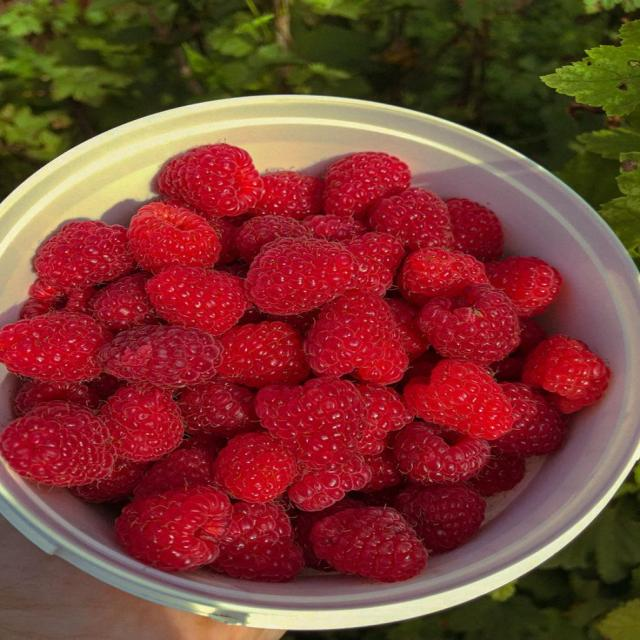raspberry: (256, 377, 365, 467), (0, 401, 115, 486), (116, 487, 231, 571), (306, 291, 408, 384), (311, 507, 427, 582), (405, 359, 513, 439), (247, 239, 356, 315), (419, 284, 519, 364), (158, 143, 263, 217), (0, 312, 110, 382), (99, 325, 221, 388), (211, 502, 302, 581), (147, 266, 251, 335), (522, 335, 610, 412), (34, 221, 134, 287), (127, 202, 220, 272), (100, 385, 184, 461), (395, 483, 486, 553), (392, 421, 489, 484), (219, 321, 309, 388), (214, 432, 297, 502), (323, 152, 411, 218), (492, 383, 567, 457), (292, 498, 365, 570), (369, 188, 453, 250), (399, 248, 488, 305), (287, 453, 371, 510), (178, 380, 259, 437), (486, 257, 561, 317), (134, 448, 219, 498), (356, 384, 413, 455), (90, 273, 157, 331), (248, 171, 323, 219), (446, 198, 503, 261), (490, 317, 546, 381), (347, 233, 404, 295), (236, 215, 311, 262), (70, 458, 149, 502), (14, 380, 99, 416), (468, 449, 526, 497), (386, 299, 429, 360), (20, 286, 97, 319), (360, 449, 405, 493), (303, 214, 366, 242), (209, 218, 239, 266), (349, 482, 406, 506), (179, 432, 226, 457), (489, 350, 525, 382), (87, 373, 126, 401), (519, 318, 547, 354), (28, 278, 70, 300), (20, 299, 58, 319)
